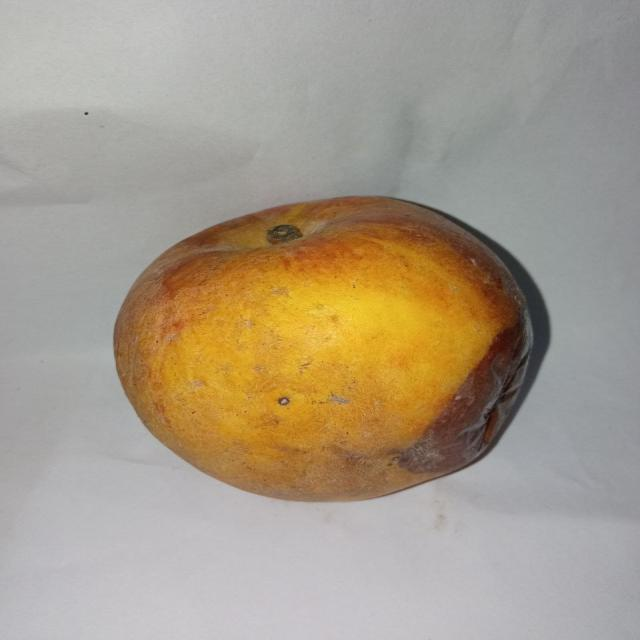rotten_apple: (109, 196, 534, 500)
